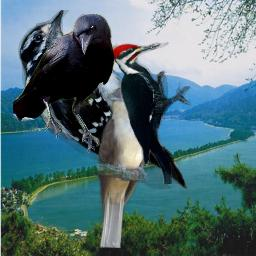Crow: (13, 14, 115, 153)
Cuckoo: (95, 87, 154, 248)
Woodpecker: (16, 10, 190, 189), (106, 40, 191, 184)
